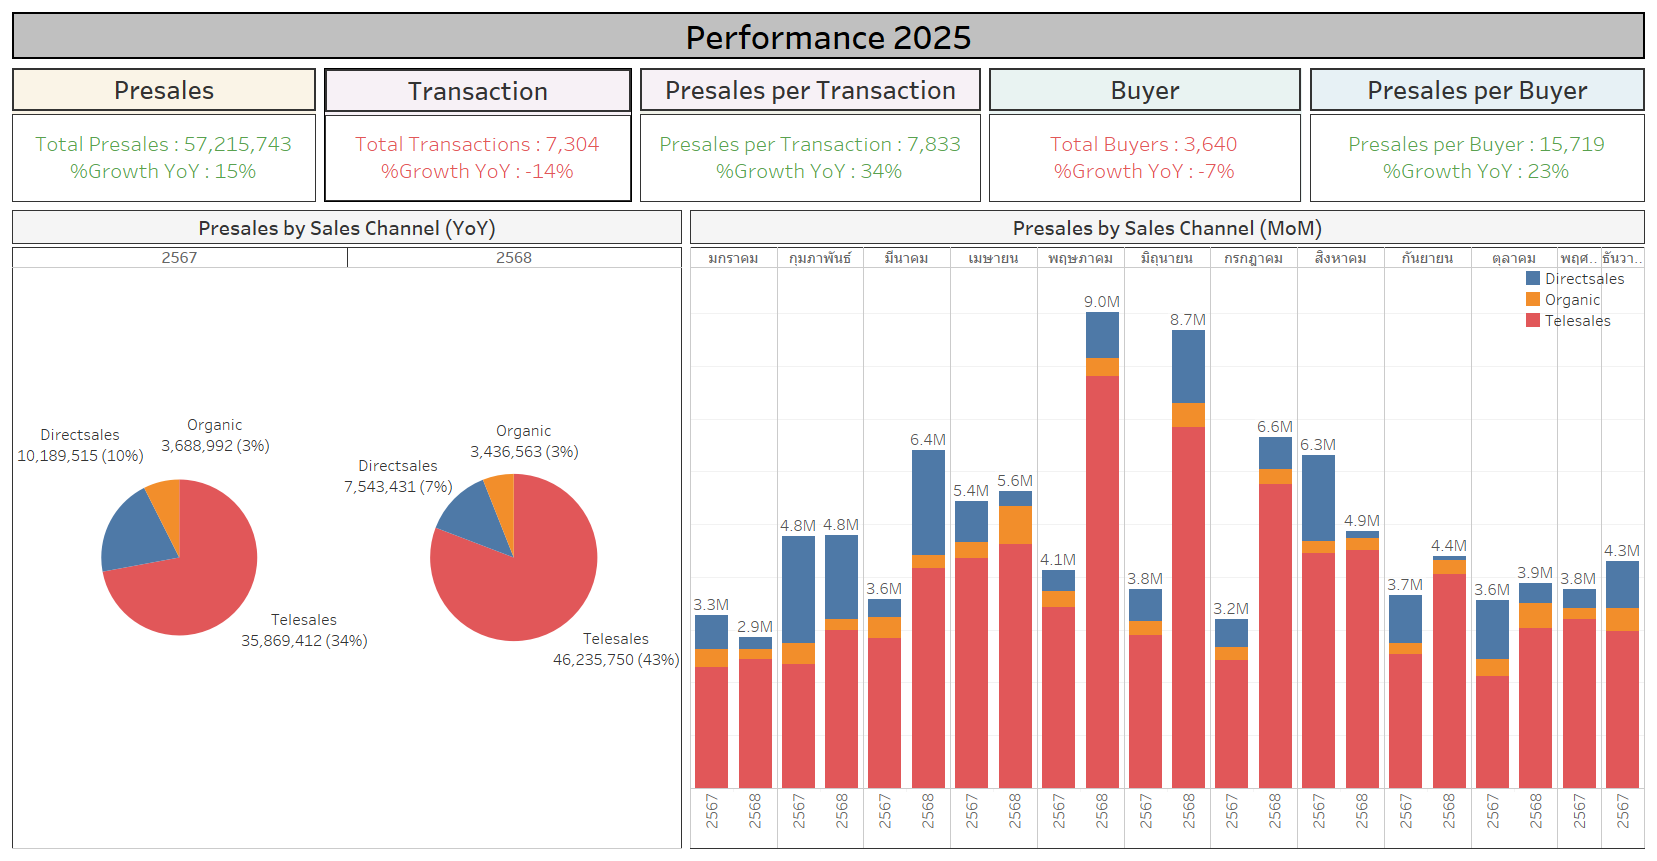

This screenshot's page, from the dashboard's own definition file:
{"tool":"tableau","page":{"name":"Dashboard 1","canvas":[1000,1000],"units":"permille","ordinal":0},"visuals":[{"type":"text","box":[4.8,9.3,990.3,64.5]},{"type":"worksheet","title":"Total Presales","mark":"Automatic","box":[4.8,73.8,188.2,165.2]},{"type":"worksheet","title":"Total Transactions","mark":"Automatic","box":[193,73.8,190.7,165.2]},{"type":"worksheet","title":"Average Presales per Transaction","mark":"Automatic","box":[383.7,73.8,210.9,165.2]},{"type":"worksheet","title":"Total Buyers","mark":"Automatic","box":[594.6,73.8,193.3,165.2]},{"type":"worksheet","title":"Presales per Buyer","mark":"Automatic","box":[788,73.8,207.2,165.2]},{"type":"worksheet","title":"Presales by Sales Channel (YoY)","mark":"Pie","cols":["Receipt_Date"],"box":[4.8,238.9,409.3,751.8]},{"type":"worksheet","title":"Presales by Sales Channel (MoM)","mark":"Bar","rows":["Price_After_Discount"],"cols":["Receipt_Date","Receipt_Date"],"box":[414.1,238.9,581.1,751.8]},{"type":"legend","title":"Presales by Sales Channel (MoM)","param":"[federated.0lcgbgx12ykgyj14rnm8q19yz148].[none:Sales_Channel:nk]","box":[919.1,311.3,84.5,98.7]}]}

Visuals, with their boxes on the dashboard's canvas, which has no fixed pixel size, in thousandths of its width and height (x1, y1, x2, y2). These are canvas units, not pixel positions in the 1657x861 screenshot, which may show the page scaled, cropped or inside an application window:
text: rect(5, 9, 995, 74)
"Total Presales" worksheet: rect(5, 74, 193, 239)
"Total Transactions" worksheet: rect(193, 74, 384, 239)
"Average Presales per Transaction" worksheet: rect(384, 74, 595, 239)
"Total Buyers" worksheet: rect(595, 74, 788, 239)
"Presales per Buyer" worksheet: rect(788, 74, 995, 239)
"Presales by Sales Channel (YoY)" worksheet (Pie marks): rect(5, 239, 414, 991)
"Presales by Sales Channel (MoM)" worksheet (Bar marks): rect(414, 239, 995, 991)
"Presales by Sales Channel (MoM)" legend: rect(919, 311, 1004, 410)
